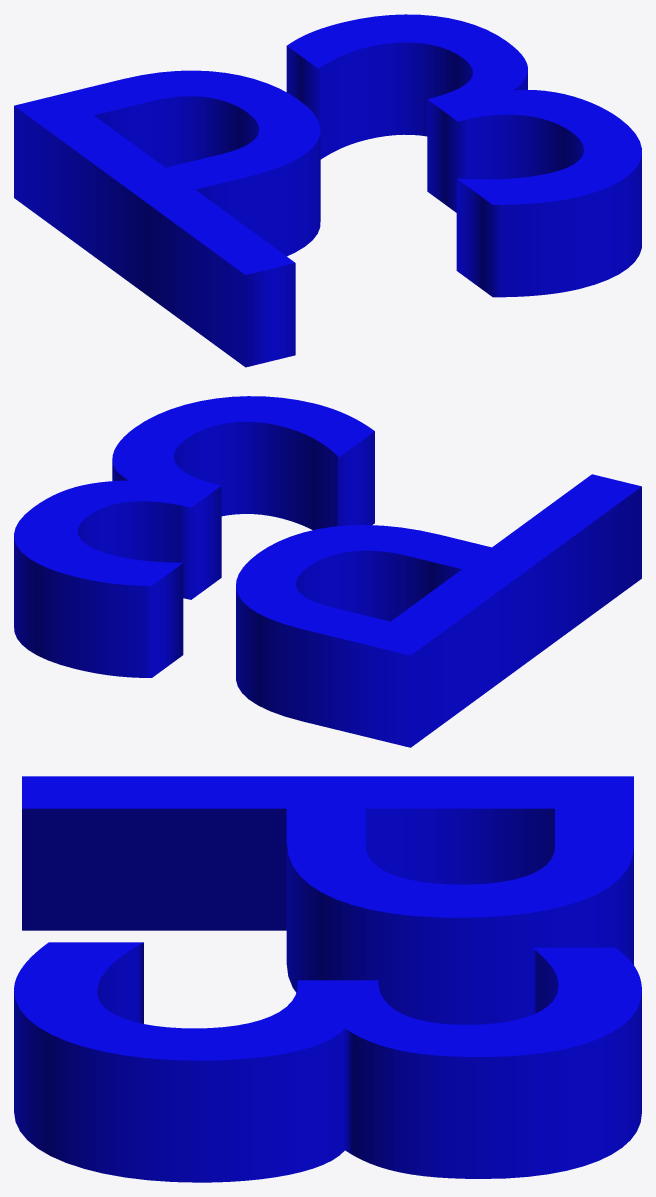
File: player3.fbx
3 views of the same model, one above another, from view 1: azimuth 30°, elevation 25°; view 2: azimuth 150°, elevation 25°; view 3: azimuth 270°, elevation 25° (orthographic). The views are drawn at different scales.
Parts seen in each view (by area): view 1: Text; view 2: Text; view 3: Text.
Part boxes in pixels (box(x1,y1,x2,y2)): Text: box(14, 14, 641, 367); Text: box(14, 396, 641, 747); Text: box(14, 776, 641, 1182).
Bounding box in the file's own units: 1.5 × 0.3 × 1.4.
